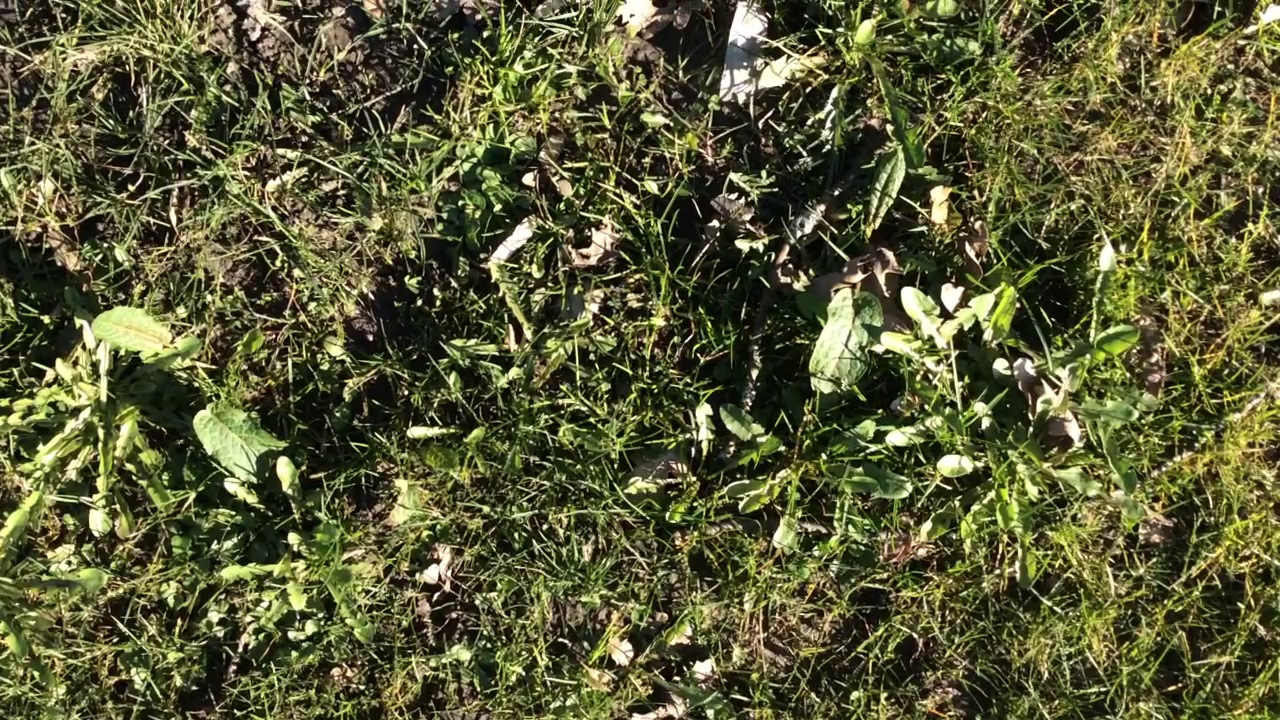rumex: (192, 405, 282, 486), (817, 290, 882, 394), (95, 311, 173, 356), (869, 148, 905, 237)
